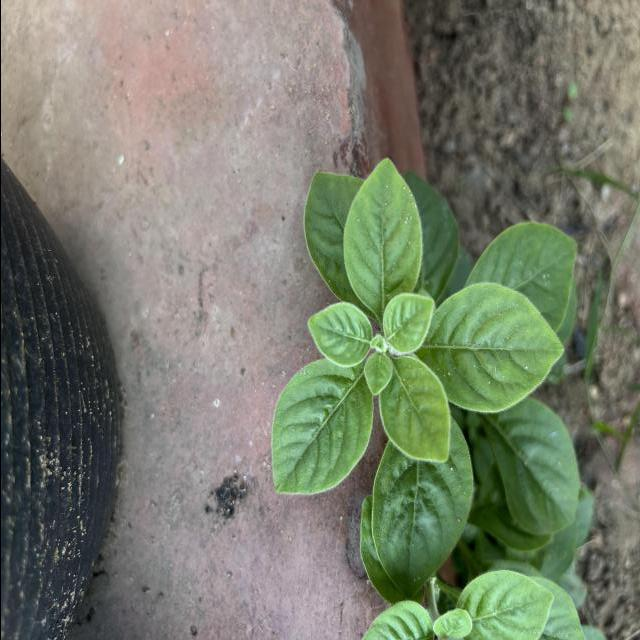Aerva lanata: (419, 278, 566, 416), (268, 355, 375, 499), (340, 156, 424, 320), (376, 353, 452, 466), (304, 298, 374, 371), (379, 290, 436, 356), (361, 351, 394, 398)
